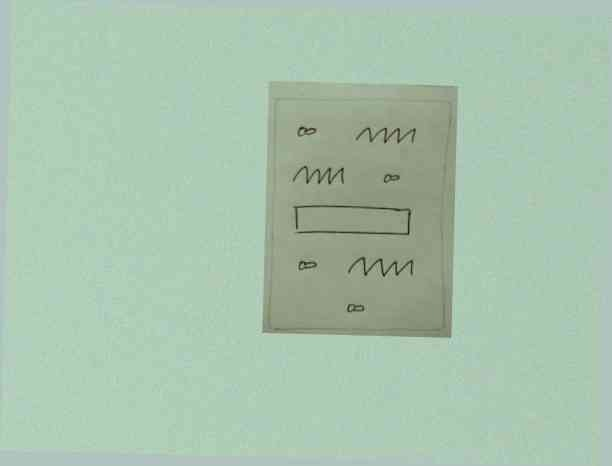switch: (292, 254, 325, 274), (293, 122, 321, 141), (377, 169, 404, 187), (344, 300, 368, 316)
text: (345, 253, 417, 279), (352, 121, 418, 148), (290, 162, 349, 188)
text_input: (287, 201, 419, 243)
